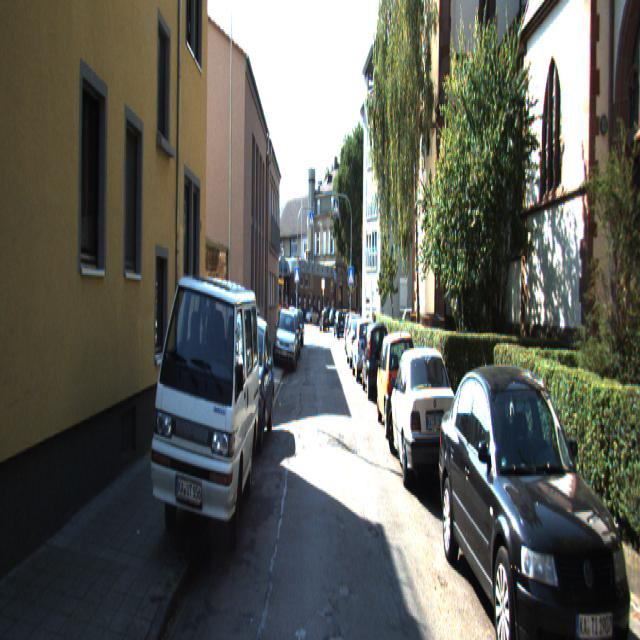Car: (437, 346, 639, 638), (149, 258, 261, 571), (383, 338, 464, 500), (220, 307, 276, 451), (375, 322, 422, 437), (360, 318, 393, 397), (352, 313, 378, 380), (275, 306, 296, 372), (346, 314, 368, 367)
